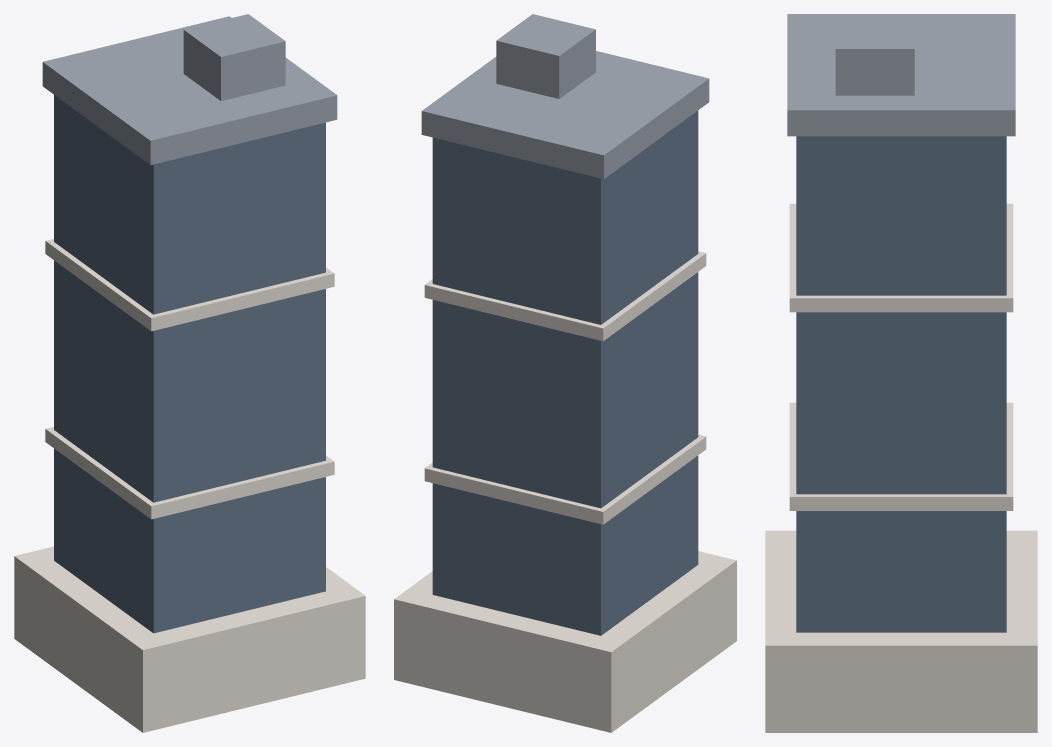
Rendered from skyscraper.glb.
The picture shows the model from 3 angles, left to right: view 1: azimuth 30°, elevation 25°; view 2: azimuth 150°, elevation 25°; view 3: azimuth 270°, elevation 25°; orthographic projection. The views are drawn at different scales.
Size of the model in its own units: 6.2 by 16.6 by 6.2.
